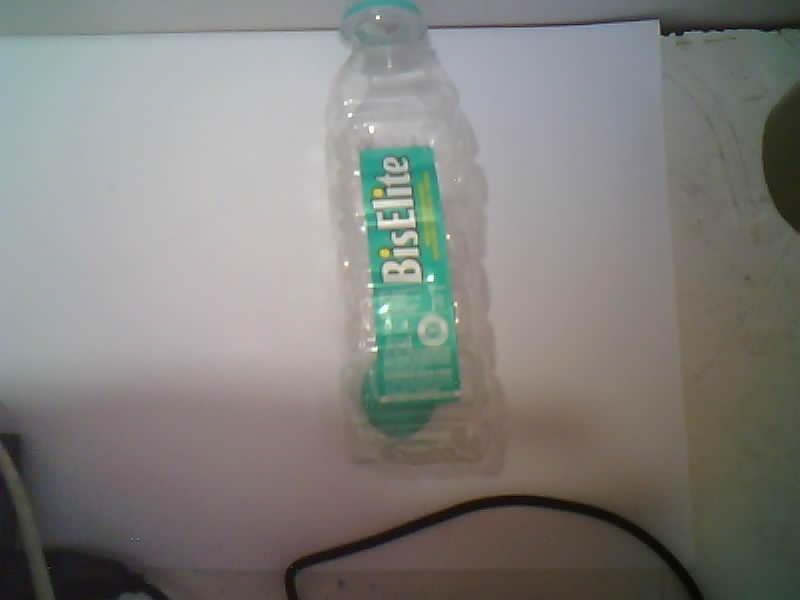non-biodegradable: (326, 0, 498, 465)
